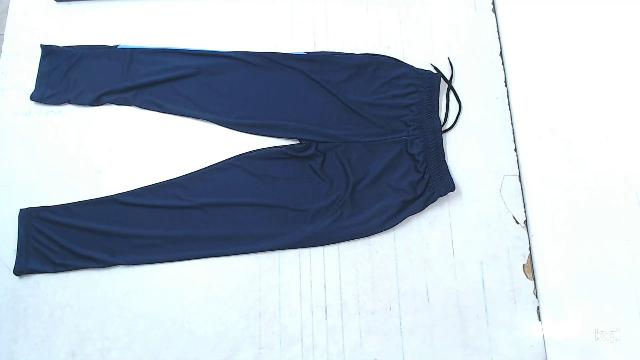new-garment: (14, 45, 460, 276)
